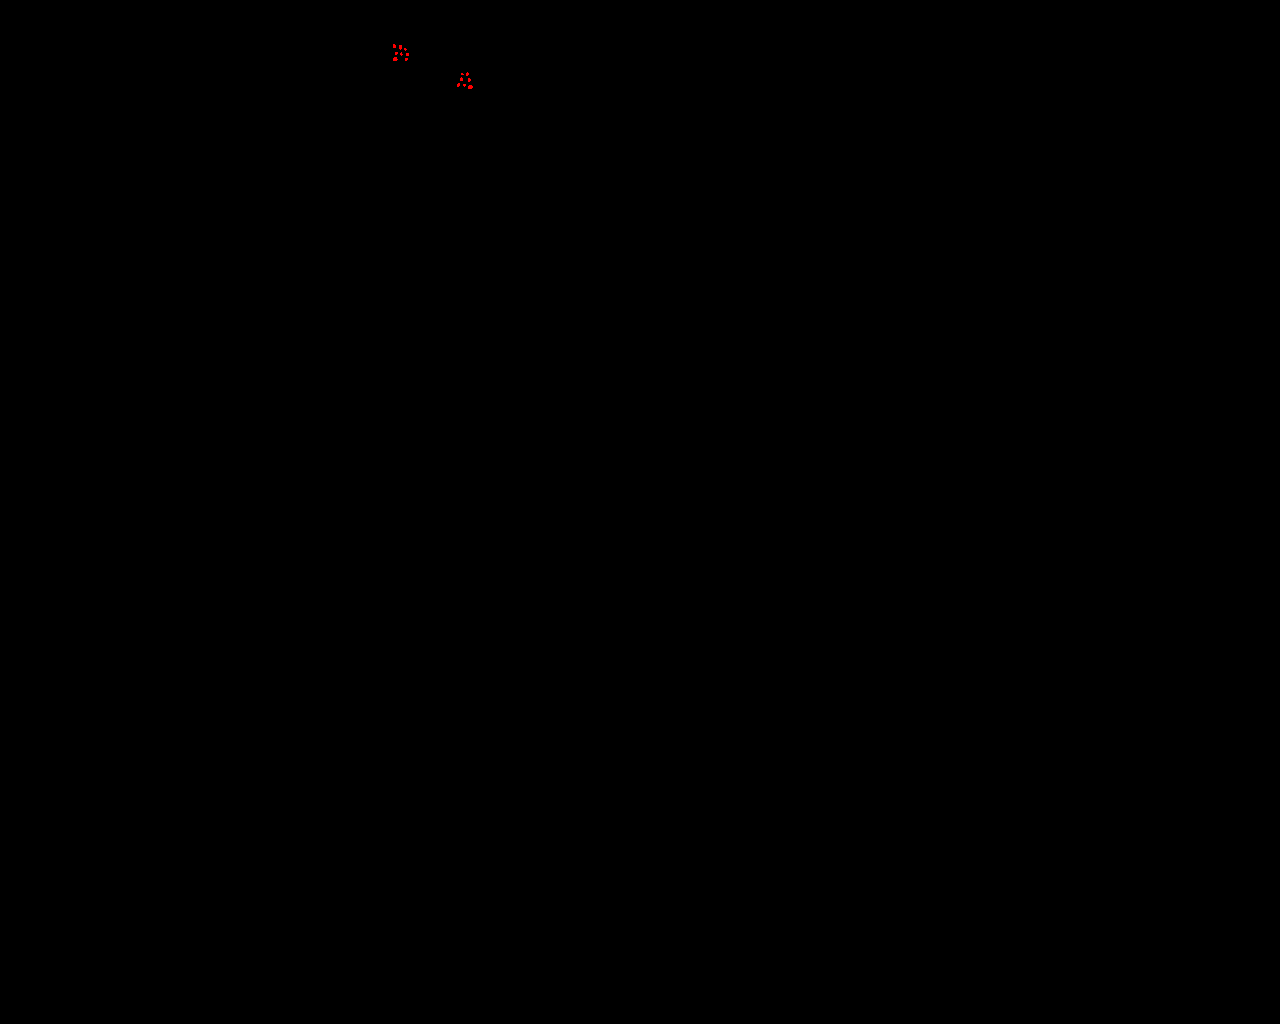Target: (468, 85, 473, 89), (399, 45, 402, 50), (393, 57, 398, 61), (393, 44, 396, 48), (400, 52, 403, 56), (466, 72, 469, 76), (460, 77, 463, 82), (457, 83, 460, 87), (404, 48, 408, 51), (395, 52, 398, 55), (468, 78, 471, 82), (463, 84, 466, 87), (406, 53, 409, 56), (461, 73, 464, 75), (405, 59, 408, 61)
